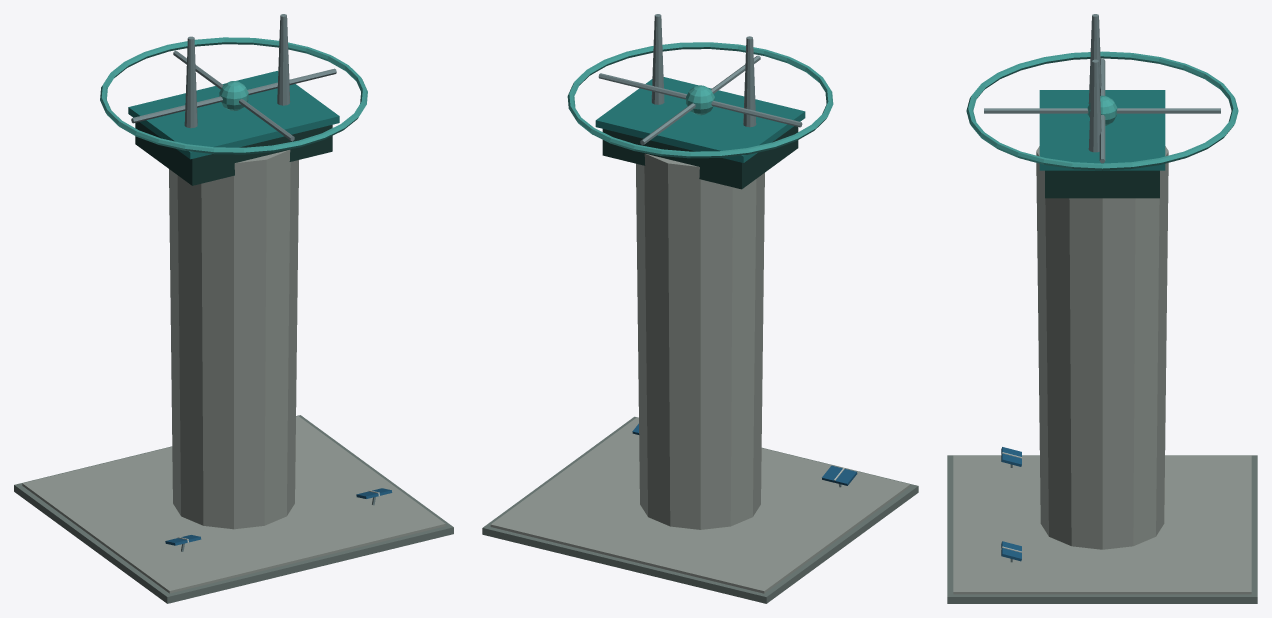
The model's file is defense_tower_lv4.glb.
3 views of the same model, side by side, from view 1: azimuth 30°, elevation 25°; view 2: azimuth 150°, elevation 25°; view 3: azimuth 270°, elevation 25° (orthographic). The views are drawn at different scales.
Parts seen in each view (by area): view 1: rough, metallic; view 2: rough, metallic; view 3: rough, metallic.
Part boxes in pixels (bbox=[...]): rough: bbox=[14, 37, 453, 603]; metallic: bbox=[131, 14, 392, 551]; rough: bbox=[482, 42, 918, 603]; metallic: bbox=[598, 14, 857, 487]; rough: bbox=[947, 51, 1257, 603]; metallic: bbox=[984, 14, 1220, 562].
Bounding box in the file's own units: 9.6 × 15.65 × 8.9.
